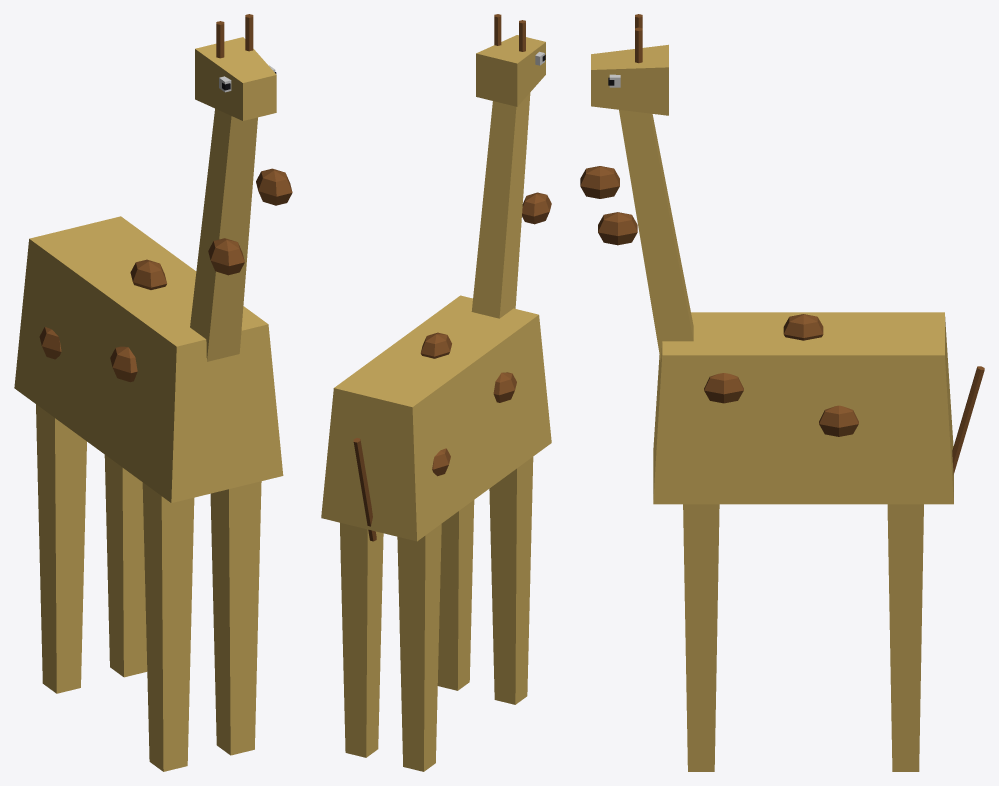
Rendered from giraffe.glb.
The picture shows the model from 3 angles, left to right: view 1: azimuth 30°, elevation 25°; view 2: azimuth 150°, elevation 25°; view 3: azimuth 270°, elevation 25°; orthographic projection. The views are drawn at different scales.
Parts seen in each view (by area): view 1: giraffe; view 2: giraffe; view 3: giraffe.
Boxes of the visible parts, box(x1,y1,x2,y2) form: giraffe: box(14, 14, 292, 771); giraffe: box(321, 14, 551, 771); giraffe: box(580, 14, 984, 771).
Size of the model in its own units: 0.8 by 4.54 by 2.29.
